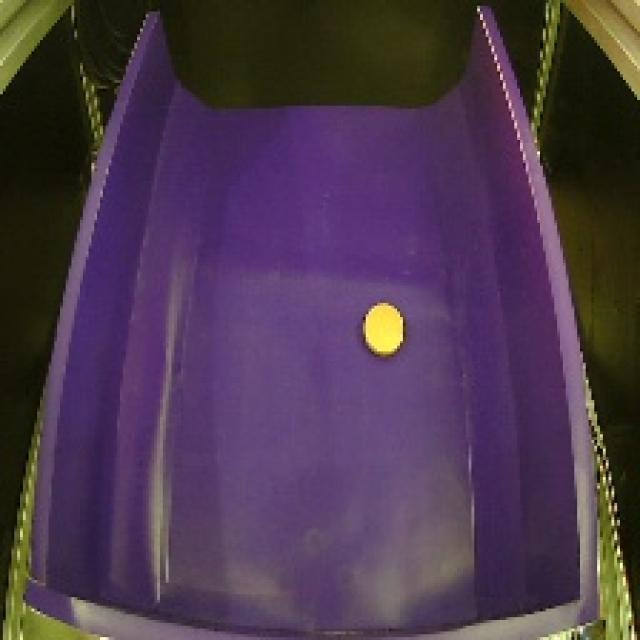small: (362, 297, 409, 360)
